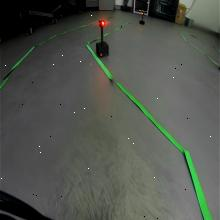red: (99, 18, 106, 28)
